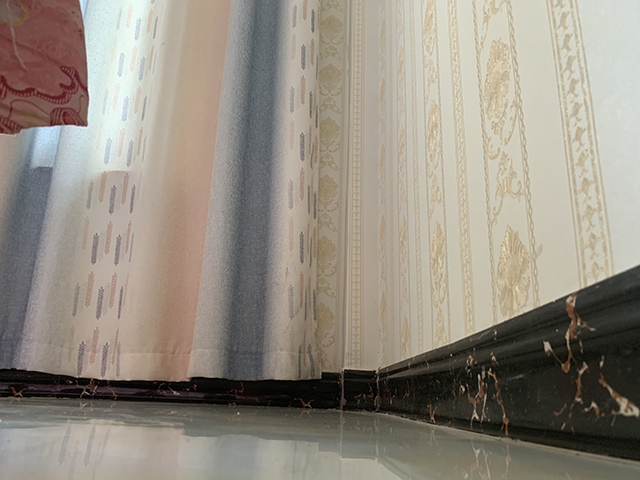curtain: (1, 1, 324, 384)
